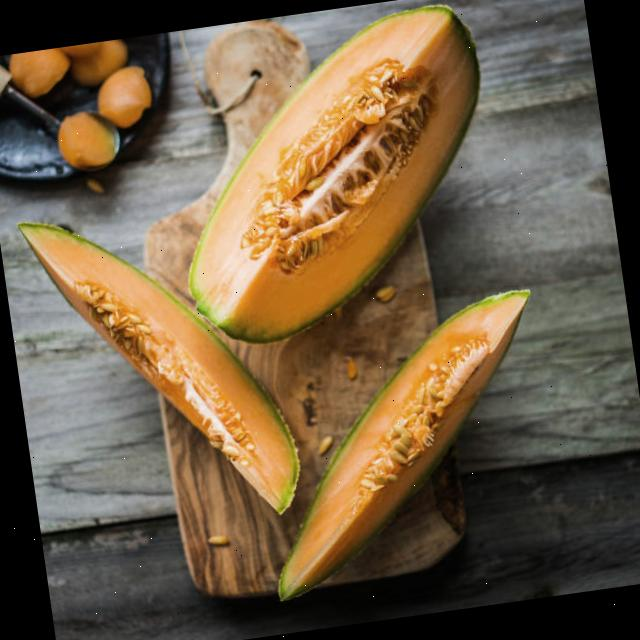Hami Melon: (151, 0, 513, 355), (17, 188, 310, 544), (240, 288, 568, 604)
